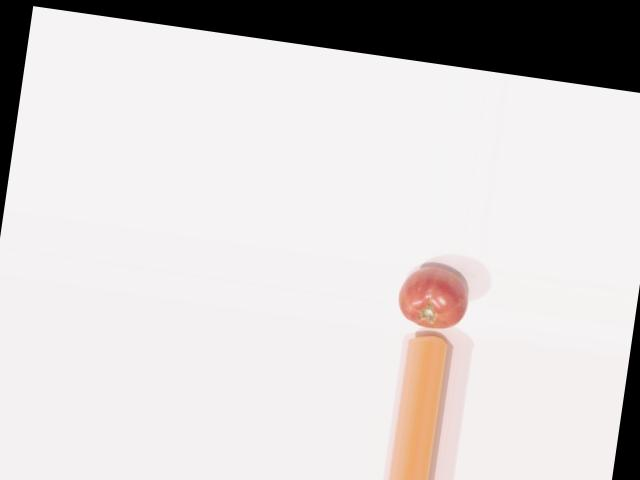tomato: (394, 262, 471, 332)
